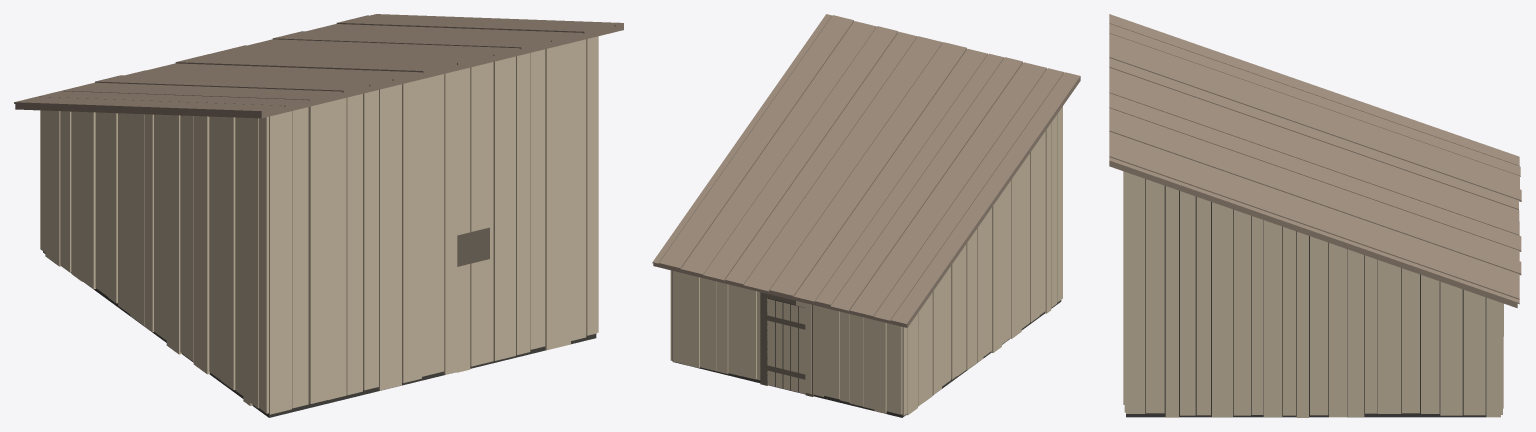
Rendered from recon_1835_blk_school_section_tier_95_d2_02__inferred_1835.glb.
The picture shows the model from 3 angles, left to right: view 1: azimuth 30°, elevation 25°; view 2: azimuth 150°, elevation 25°; view 3: azimuth 270°, elevation 25°; orthographic projection. The views are drawn at different scales.
Visible parts, largest first — view 1: recon_1835_blk_school_section_tier_95_d2_02__inferred_1835; view 2: recon_1835_blk_school_section_tier_95_d2_02__inferred_1835; view 3: recon_1835_blk_school_section_tier_95_d2_02__inferred_1835.
Part boxes in pixels (box(x1,y1,x2,y2)): recon_1835_blk_school_section_tier_95_d2_02__inferred_1835: box(14, 14, 623, 417); recon_1835_blk_school_section_tier_95_d2_02__inferred_1835: box(652, 14, 1080, 417); recon_1835_blk_school_section_tier_95_d2_02__inferred_1835: box(1109, 14, 1521, 417).
Size of the model in its own units: 5.7 by 4.8 by 6.78.
